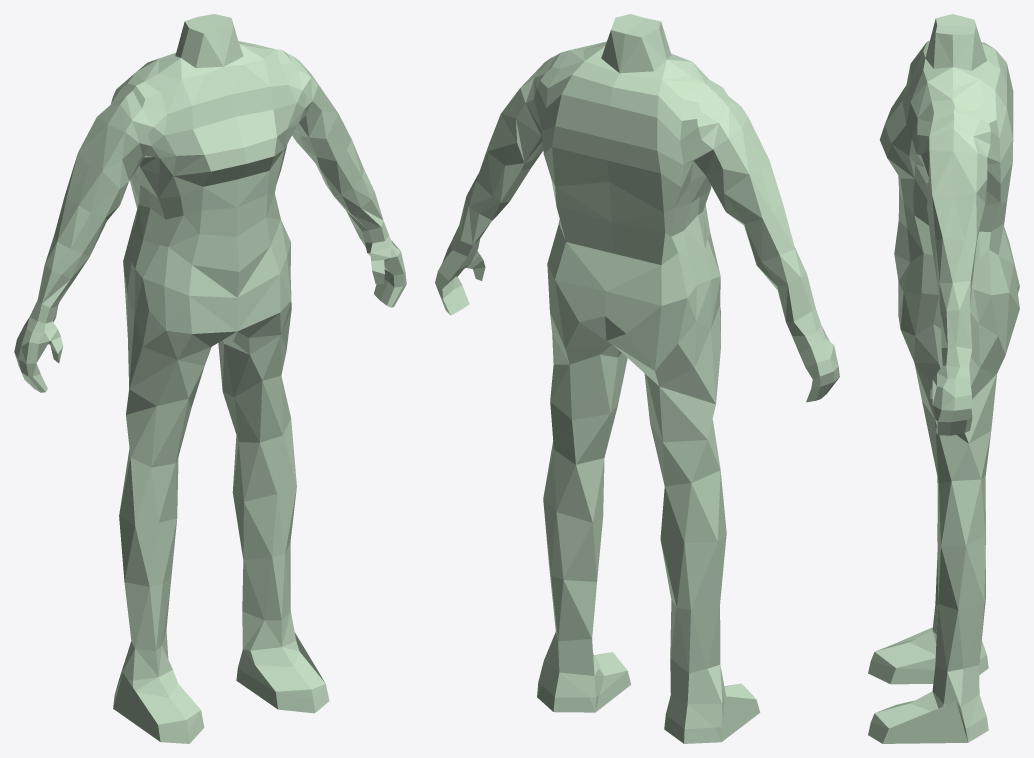
Rendered from sylph body.glb.
3 views of the same model, side by side, from view 1: azimuth 30°, elevation 25°; view 2: azimuth 150°, elevation 25°; view 3: azimuth 270°, elevation 25° (orthographic). The views are drawn at different scales.
Visible parts, largest first — view 1: Torso hands and legs; view 2: Torso hands and legs; view 3: Torso hands and legs.
Part boxes in pixels (x1,y1,x2,y2): Torso hands and legs: [14, 14, 406, 743]; Torso hands and legs: [435, 14, 839, 743]; Torso hands and legs: [868, 14, 1019, 743].
Size of the model in its own units: 0.7923 by 1.33 by 0.2705.
Materials: 1 (1 with a texture image).
